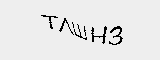Е: (127, 14, 146, 37)
С: (19, 13, 35, 31)
Т: (34, 14, 52, 31)
Э: (81, 14, 102, 37), (103, 14, 125, 35)
Ө: (53, 10, 82, 38)
